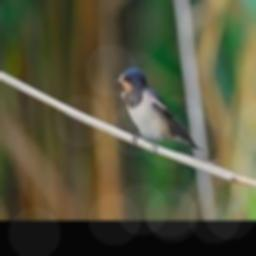Swallow: (113, 68, 203, 153)
